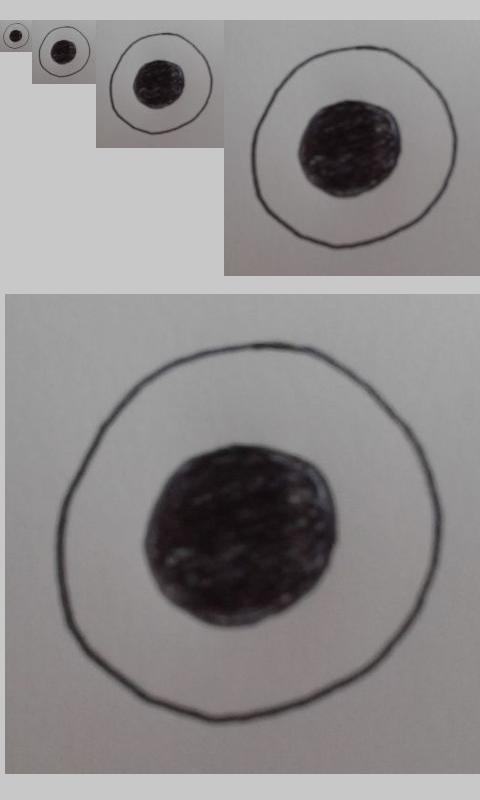radio_button: (52, 340, 446, 730), (248, 42, 459, 253), (108, 31, 213, 135), (38, 25, 92, 78), (2, 22, 30, 49)
